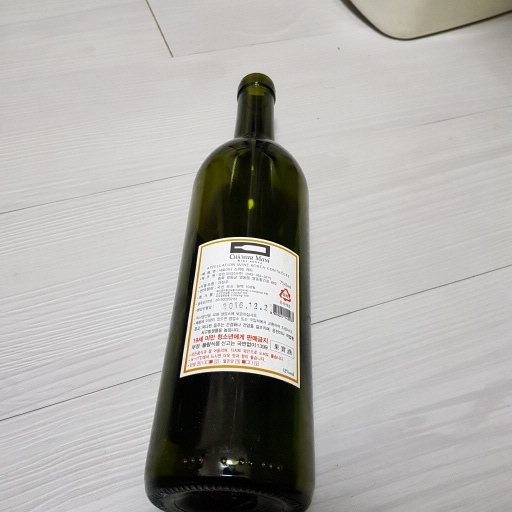Glass_2: (139, 74, 324, 512)
